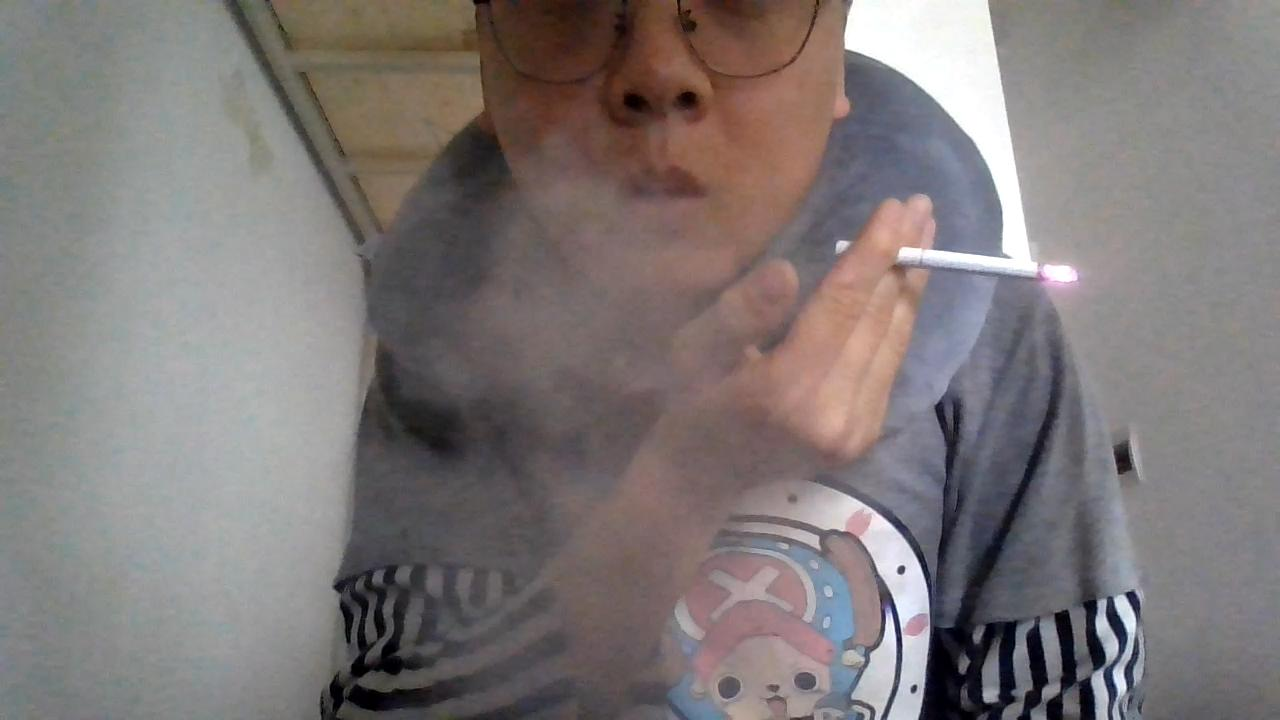yanwu: (353, 190, 730, 593)
